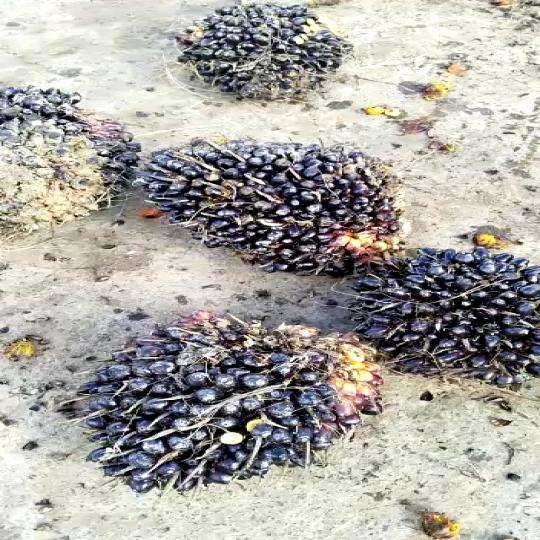mentah: (56, 306, 430, 492), (136, 132, 438, 283), (344, 226, 540, 400), (0, 75, 150, 234), (170, 2, 366, 107)
